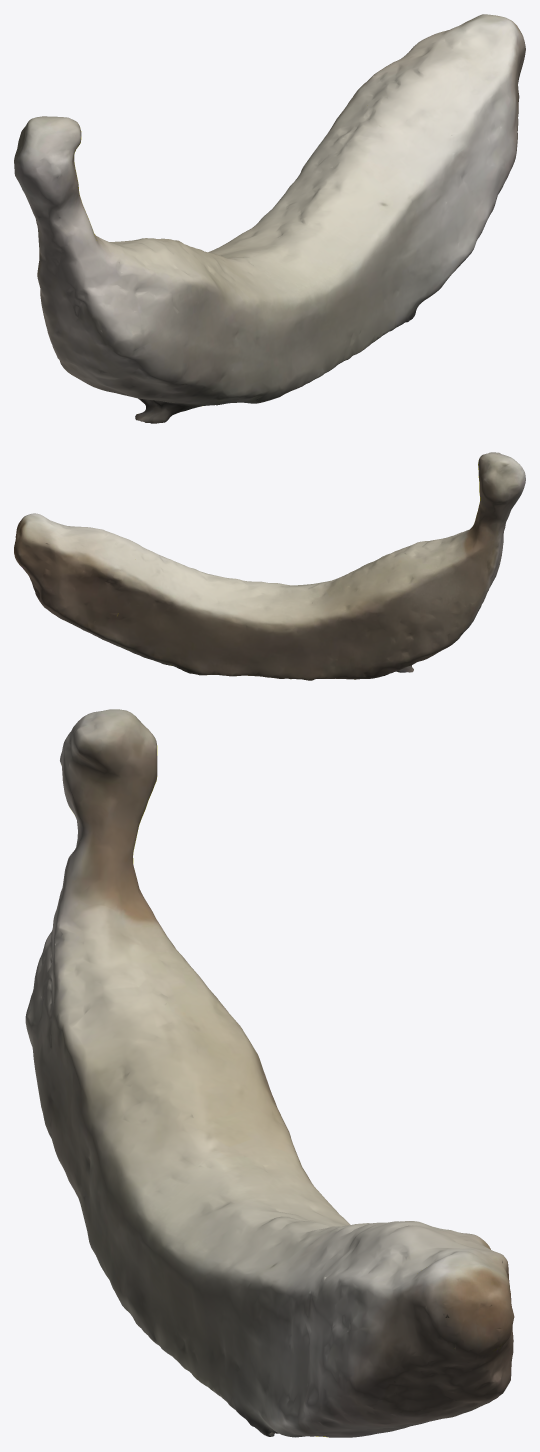
Rendered from FragilMasculinidad.glb.
3 views of the same model, one above another, from view 1: azimuth 30°, elevation 25°; view 2: azimuth 150°, elevation 25°; view 3: azimuth 270°, elevation 25° (orthographic). The views are drawn at different scales.
Parts seen in each view (by area): view 1: Mesh_0; view 2: Mesh_0; view 3: Mesh_0.
Part boxes in pixels (x1,y1,x2,y2): Mesh_0: (14,14,525,423); Mesh_0: (14,452,525,680); Mesh_0: (25,709,514,1437).
Bounding box in the file's own units: 1.57 × 0.8158 × 0.7987.
Materials: 6 (4 with a texture image).
